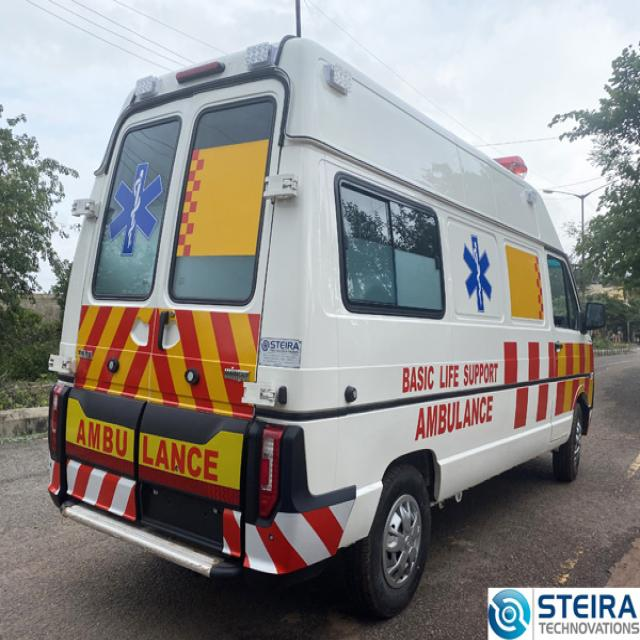emergency: (49, 36, 604, 617)
